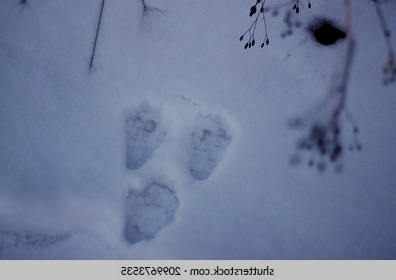rabbit: (171, 110, 248, 187)
